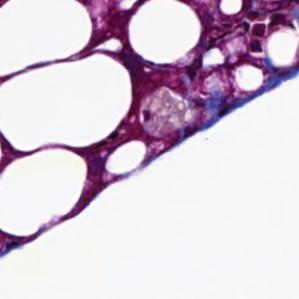inflammation: (228, 8, 271, 60)
